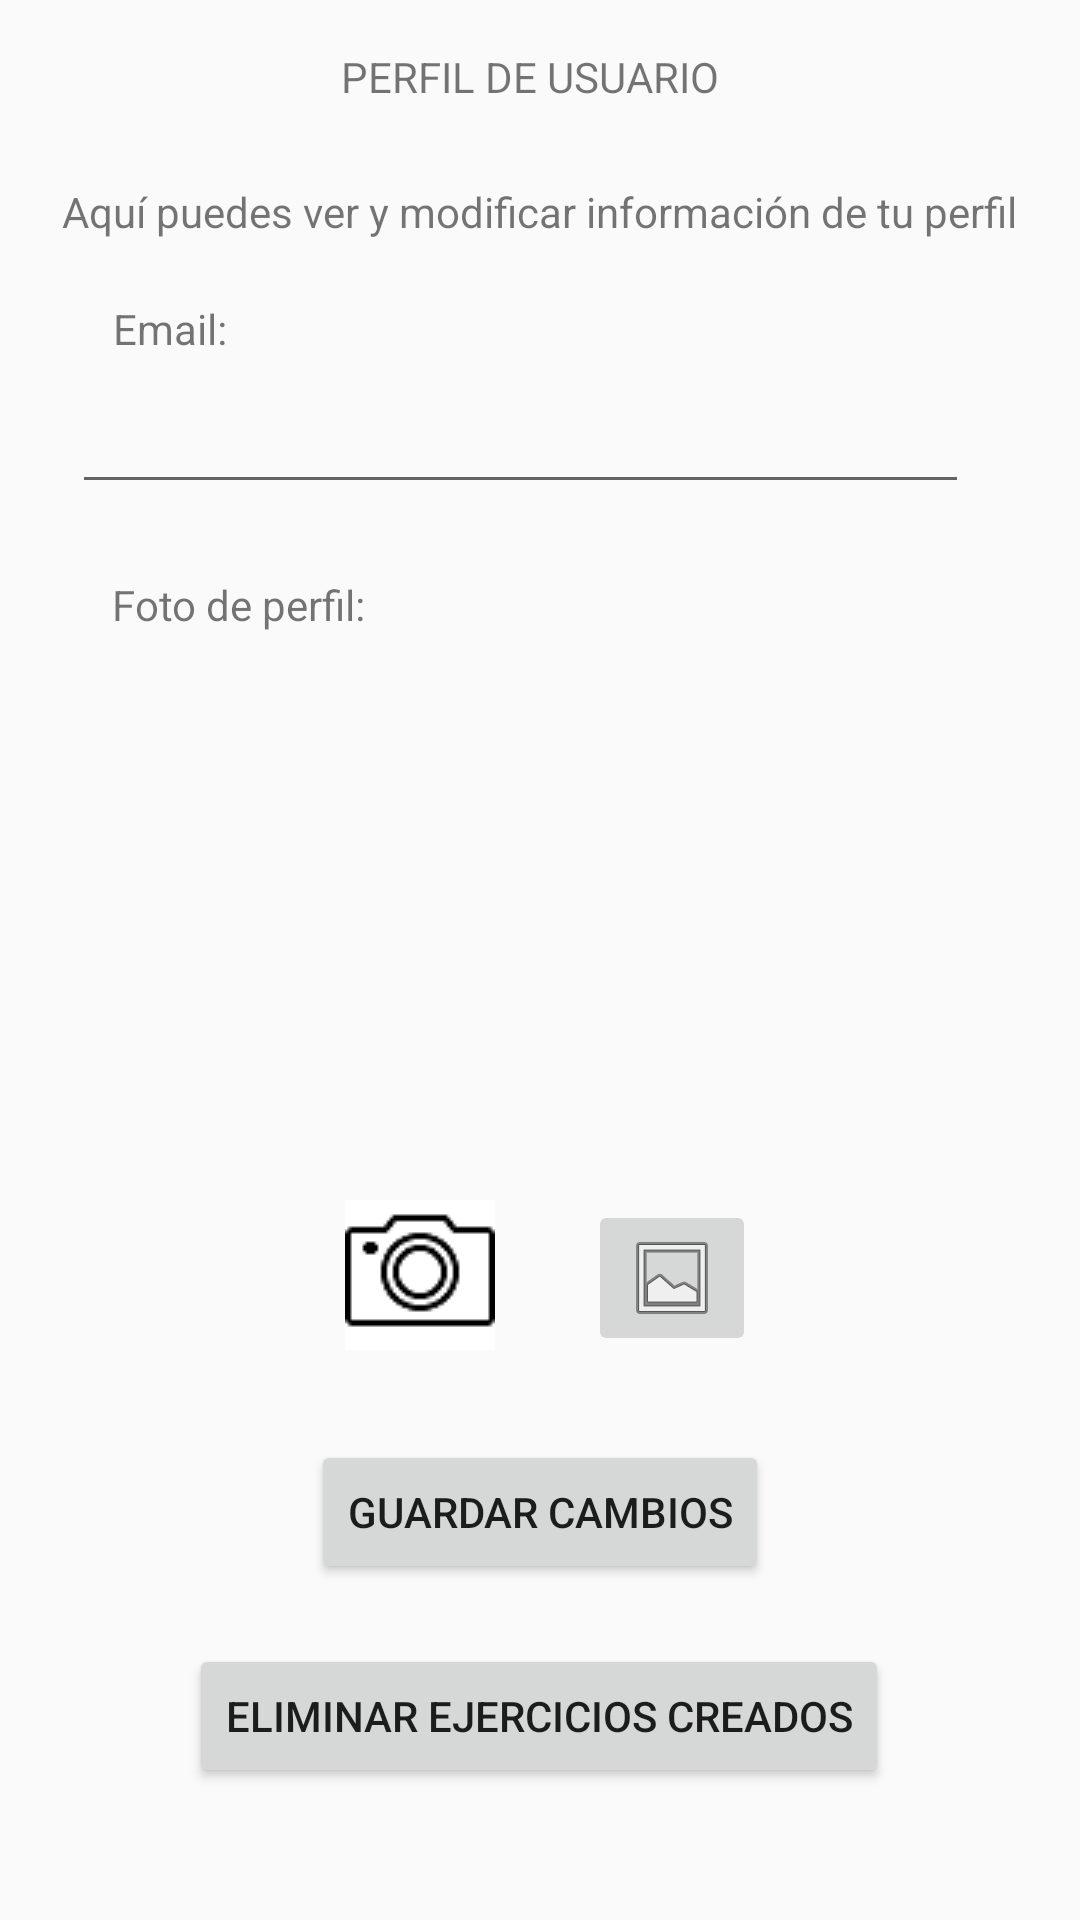

Locate icon controls on the screen. Image size 1080px×1920px, boxes as (x1, y1, x2, y2).
gallery: (600, 1218, 744, 1338)
iconocamara: (345, 1214, 495, 1327)
